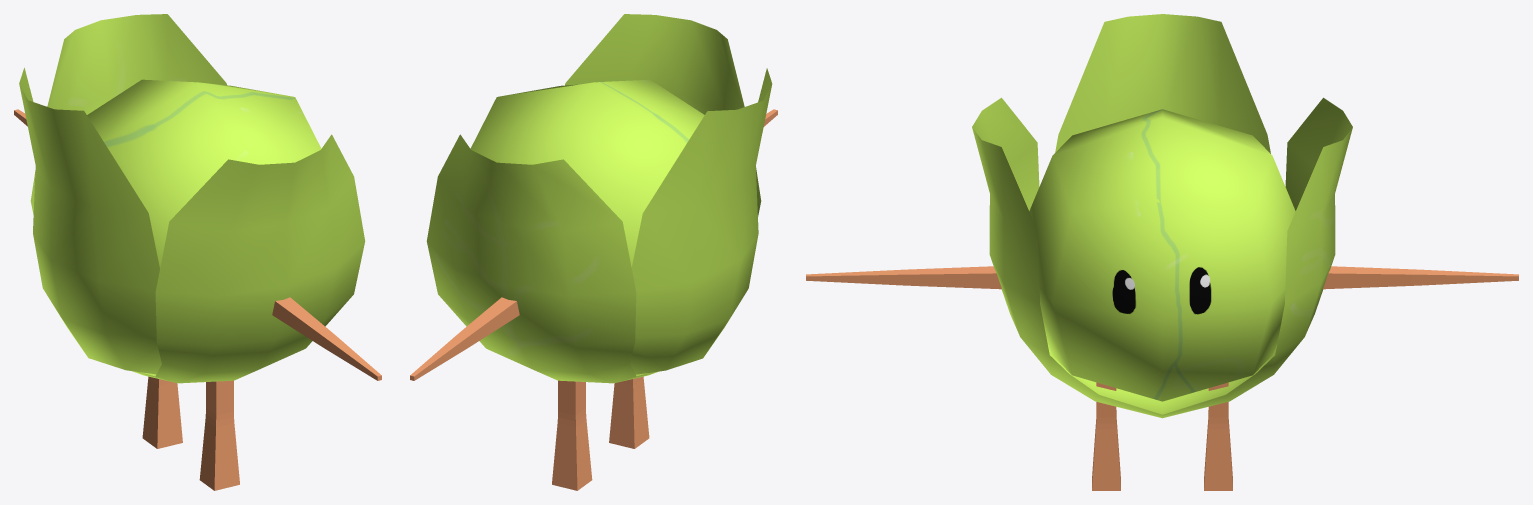
Rendered from Cabbage.fbx.
3 renders of one model, left to right at view 1: azimuth 30°, elevation 25°; view 2: azimuth 150°, elevation 25°; view 3: azimuth 270°, elevation 25°, orthographic. The views are drawn at different scales.
Visible parts, largest first — view 1: Cube.012; view 2: Cube.012; view 3: Cube.012.
Part boxes in pixels (<box>): Cube.012: <box>14,14,381,490</box>; Cube.012: <box>410,14,777,490</box>; Cube.012: <box>806,14,1518,490</box>.
Bounding box in the file's own units: 36.54 × 46.66 × 75.82.
1 material, 1 textured.
